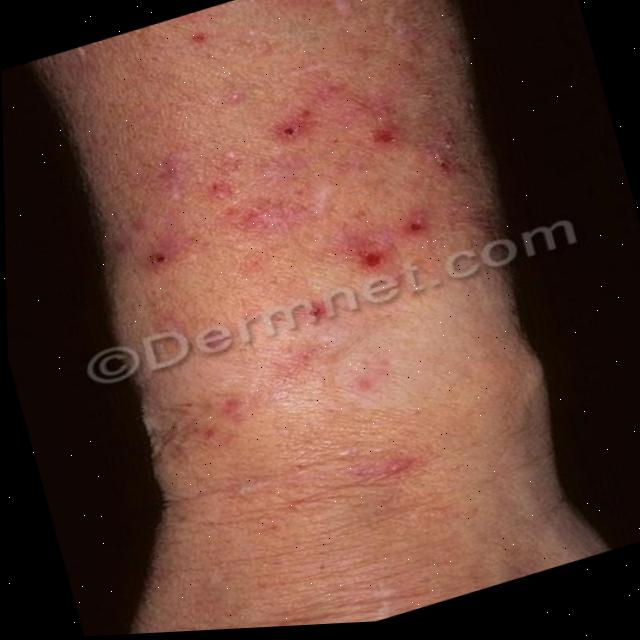Eczema: (68, 0, 501, 486)
